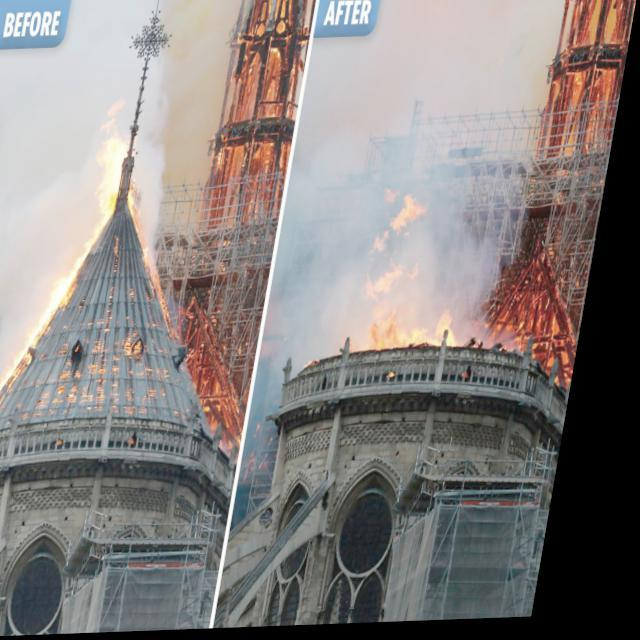Fire: (176, 0, 316, 438), (362, 176, 613, 398), (40, 110, 217, 423)
